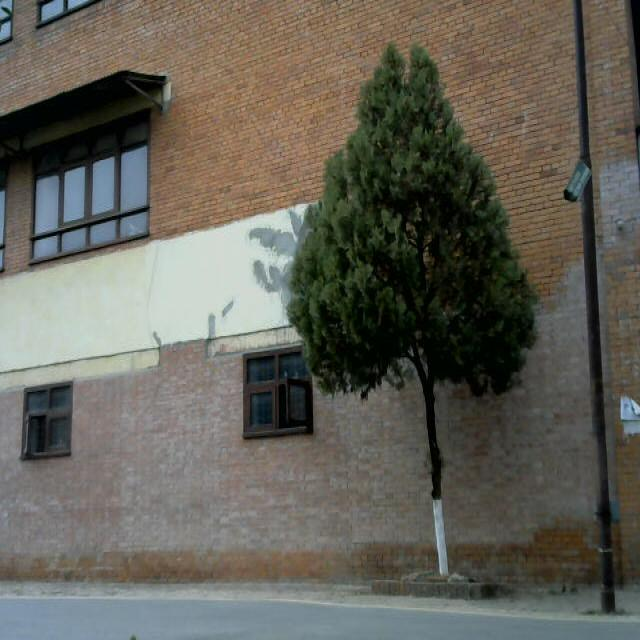Buildings: (2, 0, 307, 588)
Pole: (553, 2, 640, 640)
Road: (5, 597, 640, 640)
trees: (279, 42, 554, 592)
